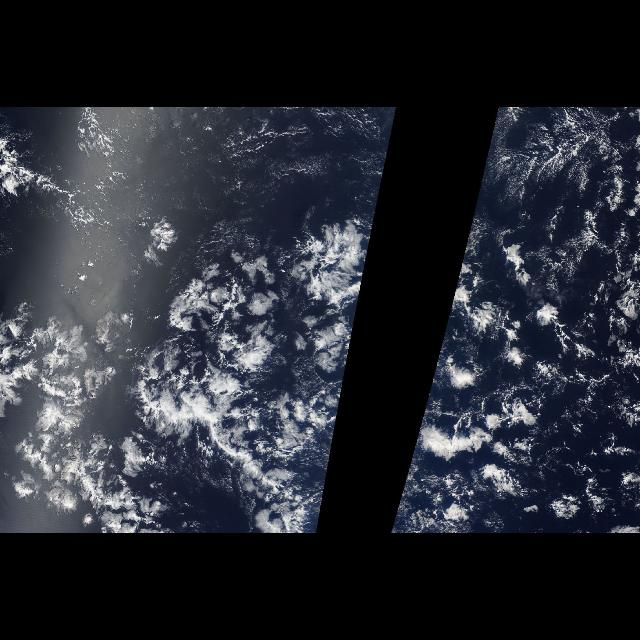Fish: (131, 349, 315, 533)
Flower: (8, 251, 370, 525), (392, 251, 634, 525)
Sugar: (171, 108, 383, 238)
